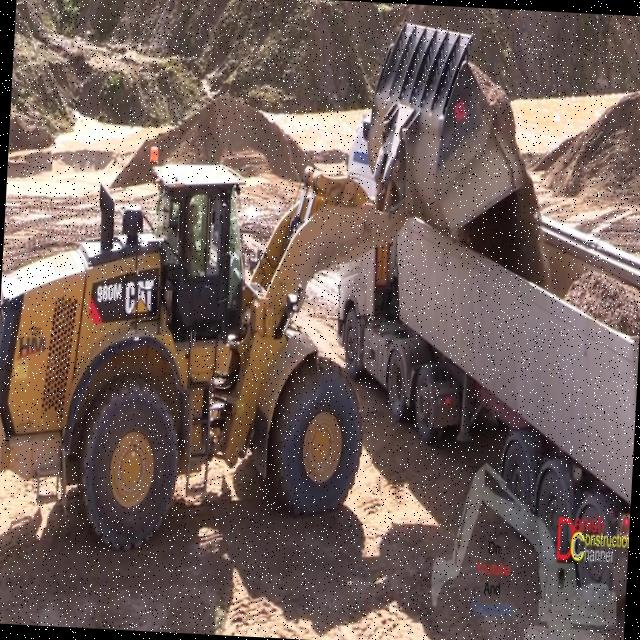Dump Truck: (313, 110, 640, 627)
Loader: (0, 0, 539, 582)
